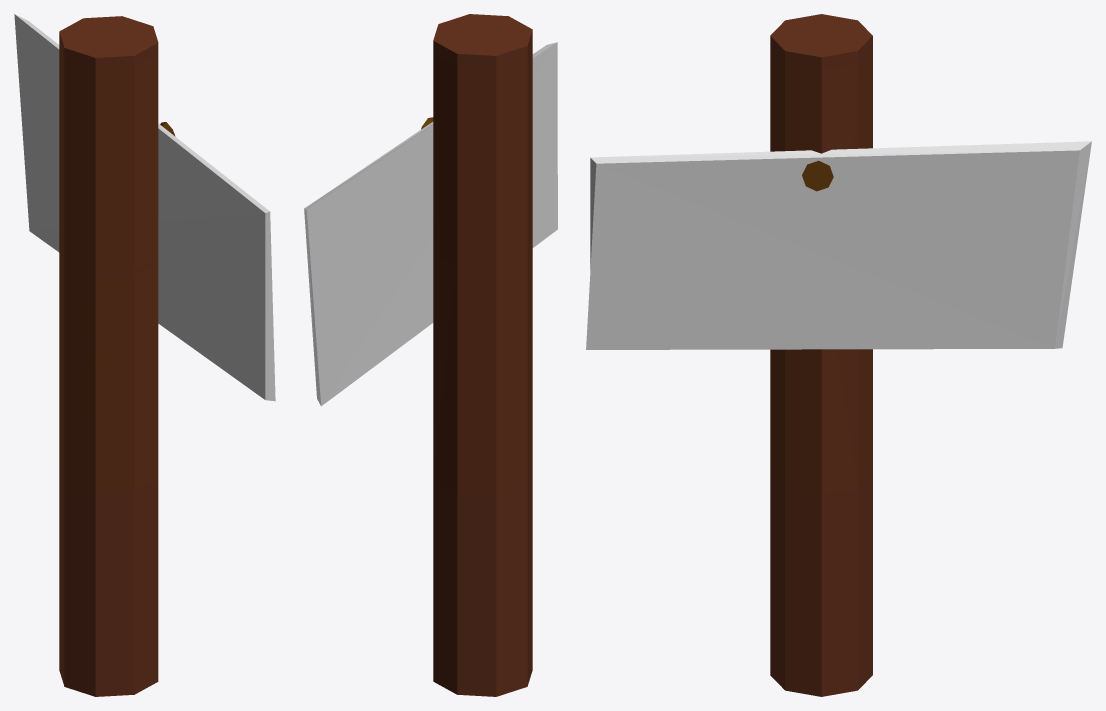
The model's file is home.dae.
3 renders of one model, left to right at view 1: azimuth 30°, elevation 25°; view 2: azimuth 150°, elevation 25°; view 3: azimuth 270°, elevation 25°, orthographic.
Parts seen in each view (by area): view 1: Cylinder, Cube; view 2: Cylinder, Cube; view 3: Cube, Cylinder.
Part boxes in pixels (x1,y1,x2,y2): Cylinder: (59, 16, 158, 696); Cube: (14, 14, 275, 401); Cylinder: (433, 14, 532, 696); Cube: (304, 42, 557, 406); Cube: (586, 141, 1091, 349); Cylinder: (770, 14, 872, 696).
Bounding box in the file's own units: 0.2366 × 0.9853 × 1.37.
2 materials, 2 textured.
